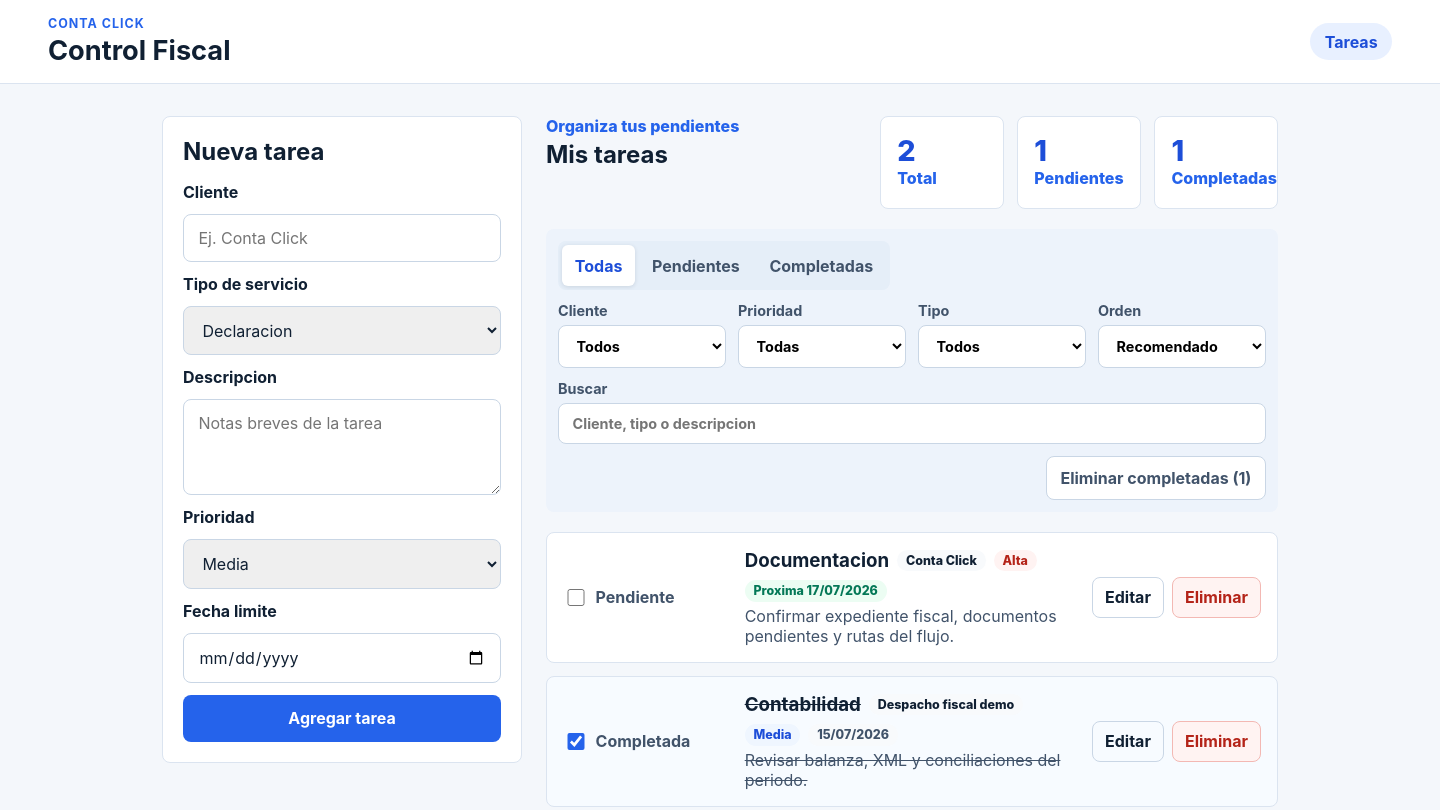
Test case: App › busca tareas por su descripcion
The image size is (1440, 810).
In the search field with id "search": (912,423) [558,402,1266,444], type "balanza"
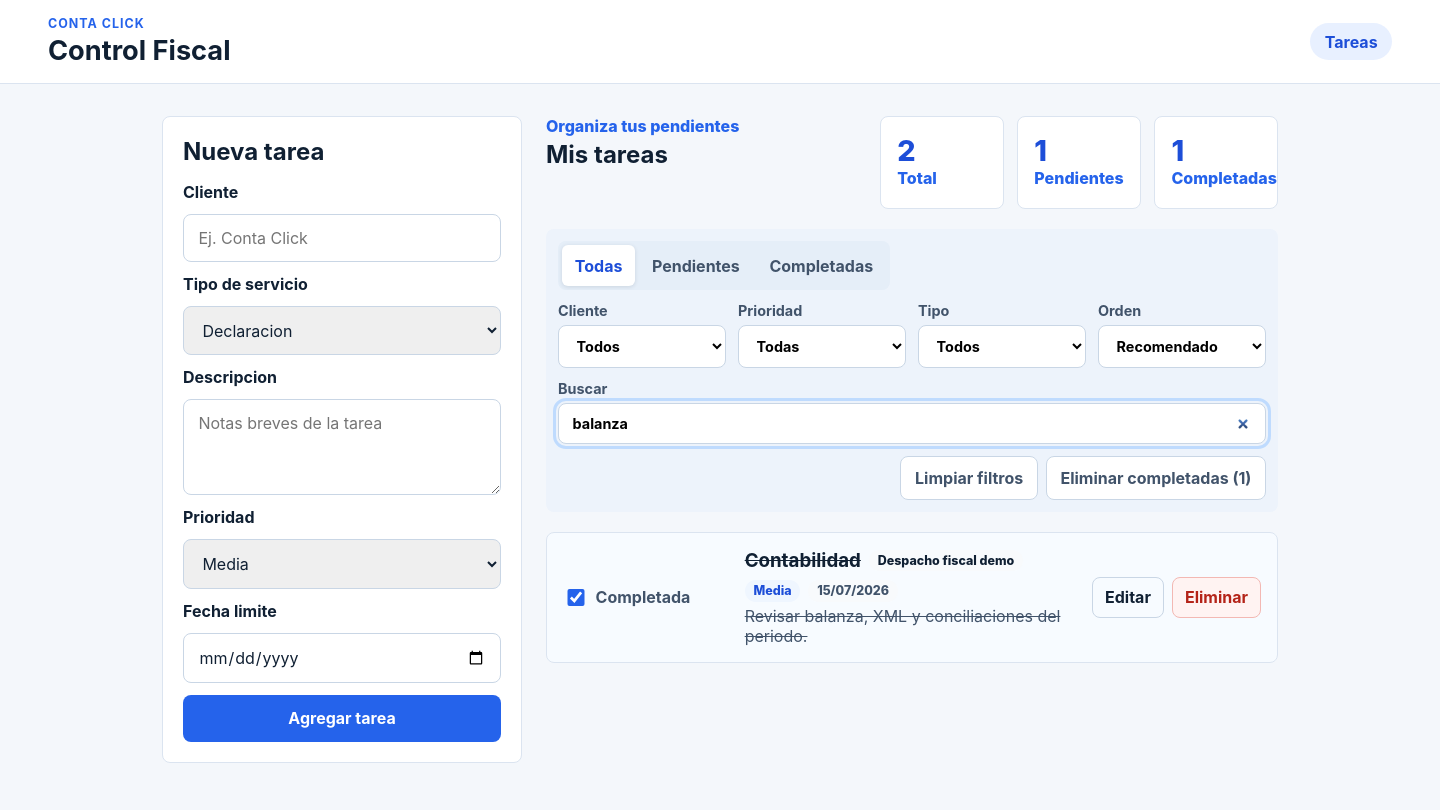
Expected: the text "Revisar balanza, XML y conciliaciones del periodo." is shown, [745,606,1076,646]
Expected: the text "Confirmar expediente fiscal" is gone
